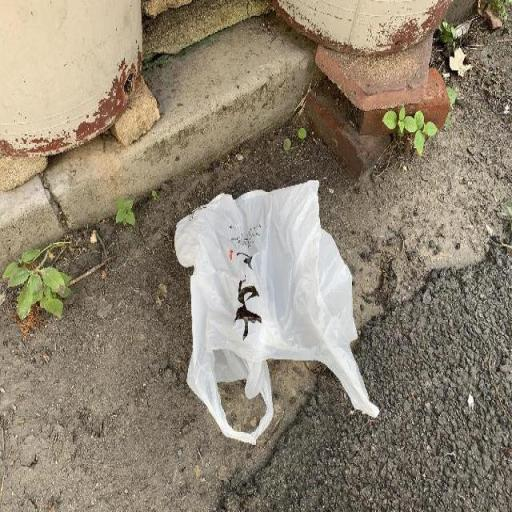plastic-bag: (172, 178, 380, 447)
